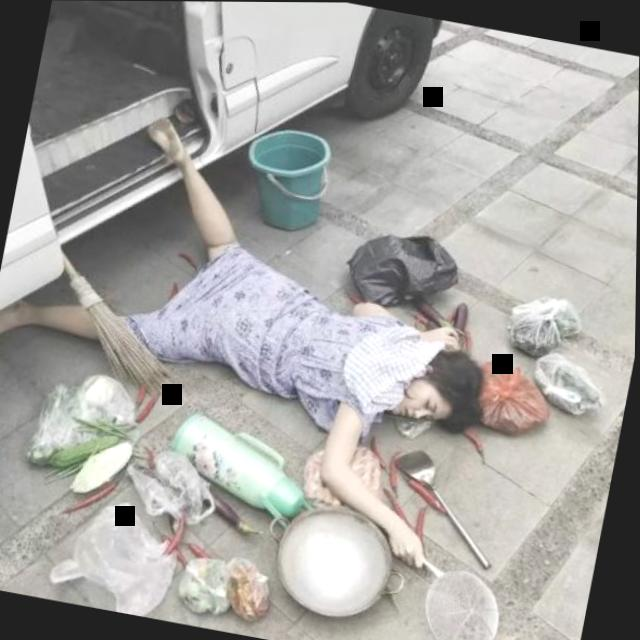Fall-Detected: (0, 68, 572, 603)
